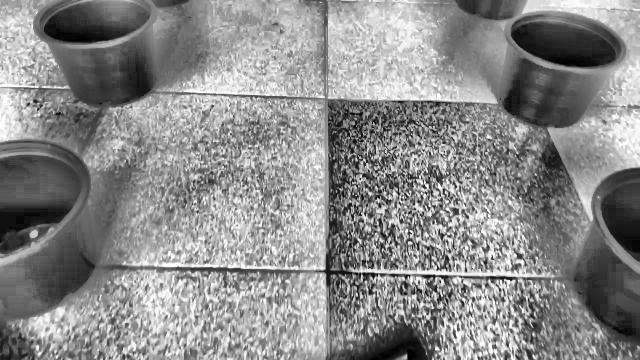pot: (0, 140, 98, 319), (498, 11, 628, 128), (32, 0, 157, 106)
